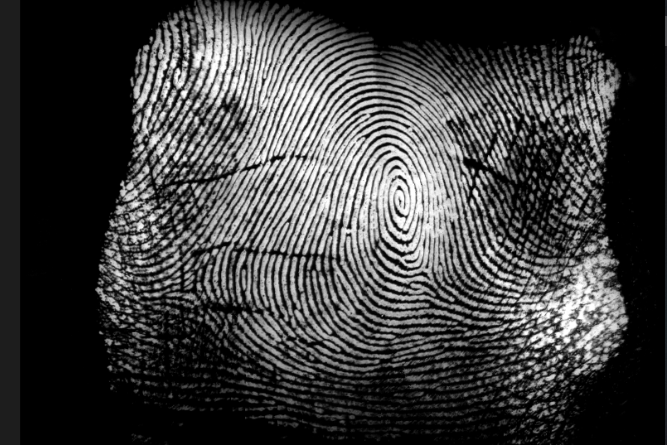nucelo: (380, 158, 414, 229)
verticilo: (416, 262, 438, 290), (180, 273, 204, 298)
